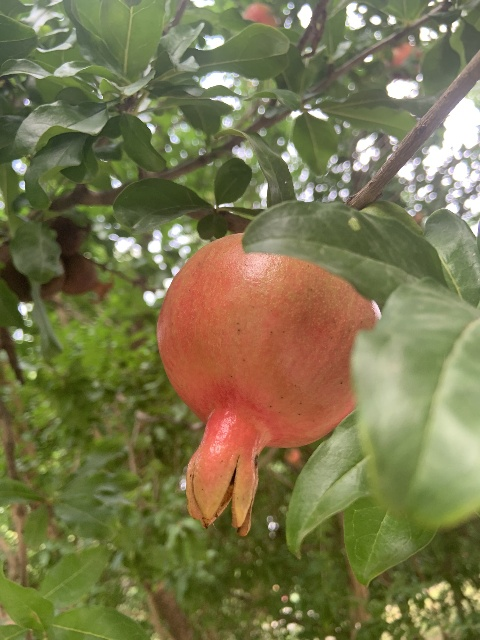ripe: (156, 230, 377, 534)
